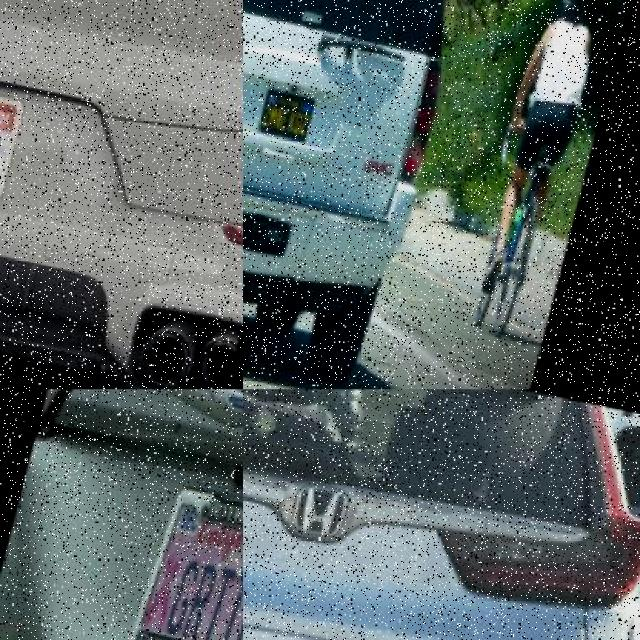licenseplate: (126, 484, 243, 640), (259, 86, 321, 142)
